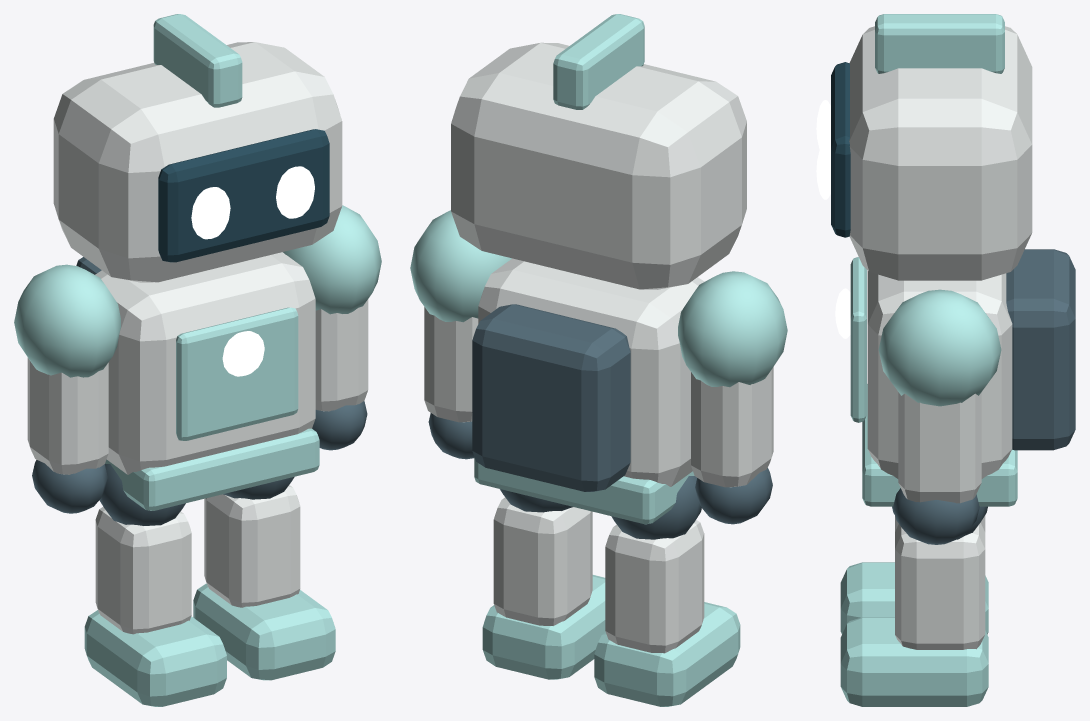
The model's file is pax.glb.
3 views of the same model, side by side, from view 1: azimuth 30°, elevation 25°; view 2: azimuth 150°, elevation 25°; view 3: azimuth 270°, elevation 25° (orthographic). The views are drawn at different scales.
Parts seen in each view (by area): view 1: Head, Torso, Visor, Chest plate, Leg.021, Leg, Boot.021, Shoulder.021, Boot, Belt, Arm.021, Shoulder (+9 smaller); view 2: Head, Pack, Torso, Leg.021, Leg, Shoulder.021, Boot.021, Arm.021, Boot, Shoulder, Crest, Belt (+5 smaller); view 3: Head, Pack, Torso, Shoulder, Boot, Leg, Arm, Crest, Visor, Belt, Boot.021, Hand (+4 smaller).
Boxes of the visible parts, x1,y1,x2,y2 form: Head: (53,42,342,282); Torso: (95,252,315,474); Visor: (158,129,329,262); Chest plate: (176,307,298,440); Leg.021: (95,507,191,634); Leg: (204,485,300,607); Boot.021: (84,610,226,706); Shoulder.021: (14,264,120,377); Boot: (193,583,335,680); Belt: (105,428,319,510); Arm.021: (27,357,108,474); Shoulder: (283,205,381,314); Head: (451,42,746,289); Pack: (472,304,630,491); Torso: (478,258,704,486); Leg.021: (605,520,704,653); Leg: (493,497,592,625); Shoulder.021: (678,271,787,387); Boot.021: (594,602,740,706); Arm.021: (691,367,773,487); Boot: (482,575,605,679); Shoulder: (410,210,511,322); Crest: (553,14,644,109); Belt: (474,457,694,524); Head: (849,26,1032,280); Pack: (1006,249,1075,450); Torso: (867,271,1012,478); Shoulder: (878,289,1001,406); Boot: (840,617,988,706); Leg: (895,523,985,649); Arm: (898,392,981,503); Crest: (875,14,1004,73); Visor: (831,62,850,237); Belt: (862,384,1017,506); Boot.021: (840,562,988,634); Hand: (893,488,979,544).
Bounding box in the file's own units: 1.16 × 1.98 × 0.717.
